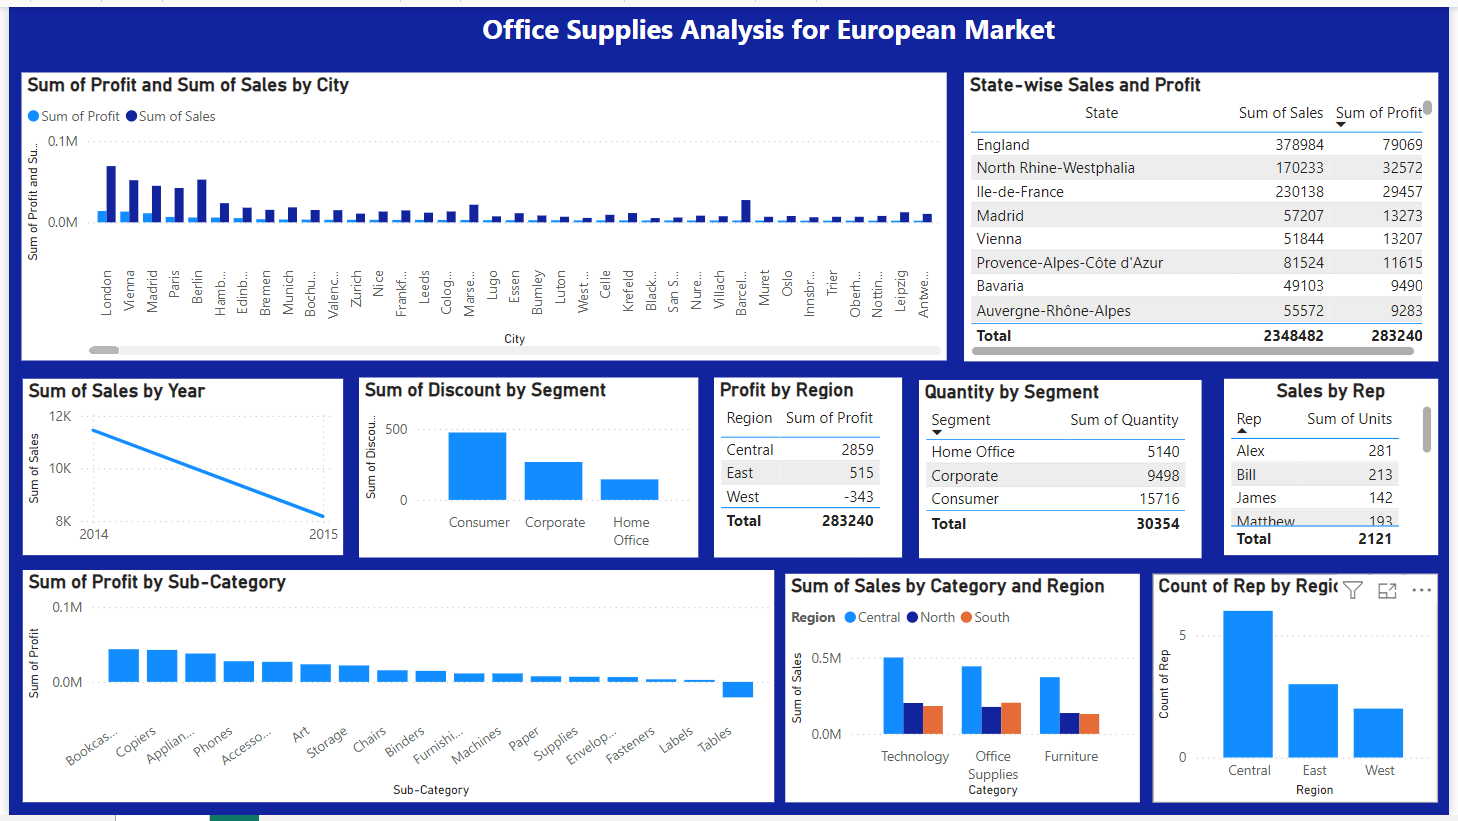

The page's visual inventory and layout, read from the dashboard file:
{"tool":"powerbi","page":{"name":"Page 1","canvas":[1280,720],"ordinal":0},"visuals":[{"type":"clusteredColumnChart","fields":{"Category":["OrderBreakdown.Sub-Category"],"Y":["OrderBreakdown.Profit"]},"box":[11.7,501.7,668.3,206.7],"z":0},{"type":"clusteredColumnChart","fields":{"Category":["OrderBreakdown.Category"],"Y":["OrderBreakdown.Sales"],"Series":["ListOfOrders.Region"]},"box":[690,505,315,203.3],"z":1000},{"type":"columnChart","fields":{"Category":["ListOfOrders.Segment"],"Y":["OrderBreakdown.Discount"]},"box":[311.2,331.2,301.2,160],"z":2000},{"type":"columnChart","fields":{"Category":["OfficeSupplies.Region"],"Y":["OfficeSupplies.Rep"]},"box":[1016.7,505,253.3,203.3],"z":3000},{"type":"lineClusteredColumnComboChart","fields":{"Y":["OrderBreakdown.Profit","OrderBreakdown.Sales"],"Category":["ListOfOrders.City"]},"box":[11.2,60,822.5,256.2],"z":4000},{"type":"tableEx","title":"State-wise Sales and Profit","fields":{"Values":["ListOfOrders.State","OrderBreakdown.Sales","OrderBreakdown.Profit"]},"box":[848.6,60,421.4,257.1],"z":5000},{"type":"lineChart","fields":{"Category":["OfficeSupplies.OrderDate.Variation.Date Hierarchy.Year"],"Y":["OfficeSupplies.Sales"]},"box":[11.7,331.7,285,156.7],"z":6000},{"type":"tableEx","title":"Sales by Rep","fields":{"Values":["OfficeSupplies.Rep","OfficeSupplies.Units"]},"box":[1080,331.7,190,156.7],"z":7000},{"type":"tableEx","title":"Quantity by Segment","fields":{"Values":["ListOfOrders.Segment","OrderBreakdown.Quantity"]},"box":[808.6,332.9,251.4,158.6],"z":8000},{"type":"textbox","box":[405.4,0,539.3,43.4],"z":9000},{"type":"tableEx","title":"Profit by Region","fields":{"Values":["OfficeSupplies.Region","OrderBreakdown.Profit"]},"box":[627.1,331.4,167.1,160],"z":10000}]}

Visuals, with their boxes in screenshot pixels (x1, y1, x2, y2), scaled from the page's 1280x720 canvas onto the 1458x821 screenshot:
clusteredColumnChart - OrderBreakdown.Sub-Category x OrderBreakdown.Profit: [left=13, top=572, right=775, bottom=808]
clusteredColumnChart - OrderBreakdown.Category x OrderBreakdown.Sales: [left=786, top=576, right=1145, bottom=808]
columnChart - ListOfOrders.Segment x OrderBreakdown.Discount: [left=354, top=378, right=698, bottom=560]
columnChart - OfficeSupplies.Region x OfficeSupplies.Rep: [left=1158, top=576, right=1447, bottom=808]
lineClusteredColumnComboChart - OrderBreakdown.Profit x OrderBreakdown.Sales: [left=13, top=68, right=950, bottom=361]
"State-wise Sales and Profit" tableEx: [left=967, top=68, right=1447, bottom=362]
lineChart - OfficeSupplies.OrderDate.Variation.Date Hierarchy.Year x OfficeSupplies.Sales: [left=13, top=378, right=338, bottom=557]
"Sales by Rep" tableEx: [left=1230, top=378, right=1447, bottom=557]
"Quantity by Segment" tableEx: [left=921, top=380, right=1207, bottom=560]
textbox: [left=462, top=0, right=1076, bottom=49]
"Profit by Region" tableEx: [left=714, top=378, right=905, bottom=560]
